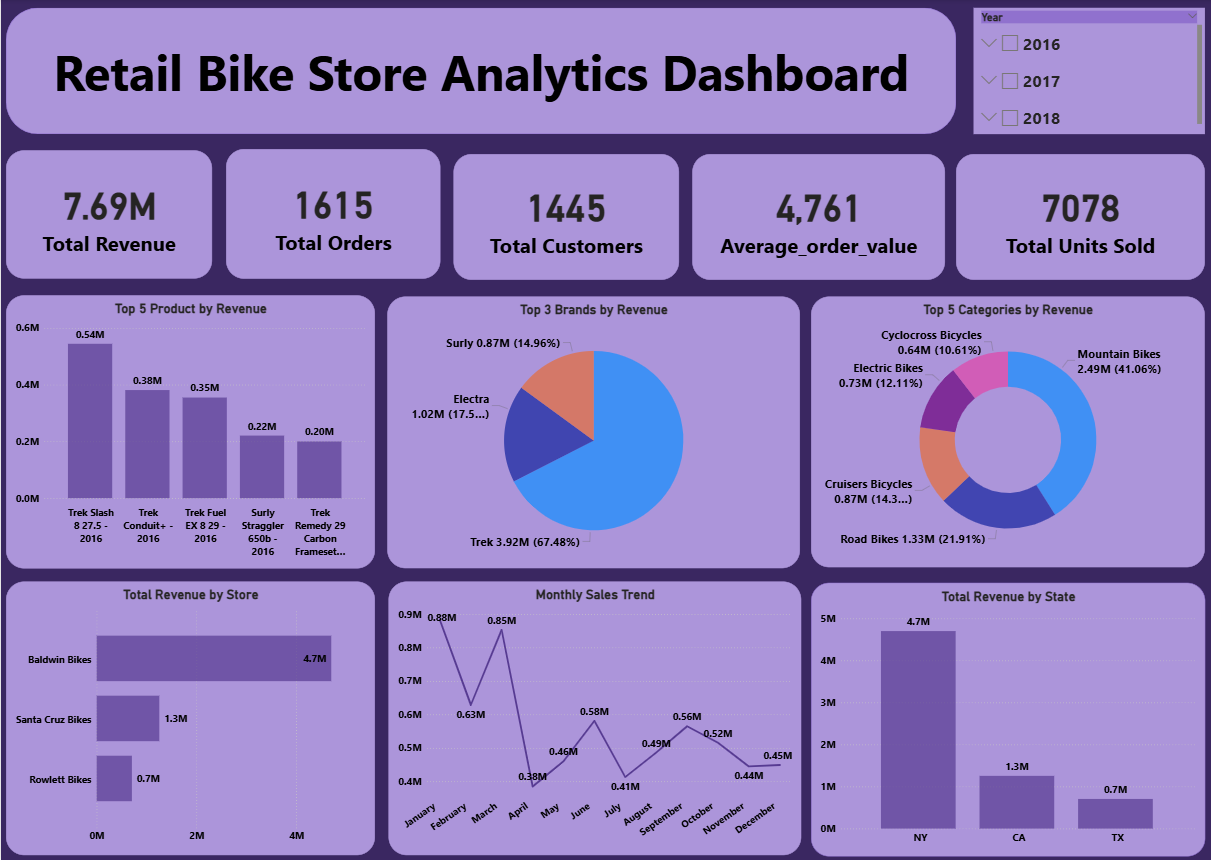

Layout of this report page (visuals, bound fields, positions):
{"tool":"powerbi","page":{"name":"Page 1","canvas":[1995,1425],"ordinal":0},"visuals":[{"type":"shape","box":[9.2,13.9,1563.5,207.9],"z":0},{"type":"card","fields":{"Values":["Sum(order_items.Revenue)"]},"box":[9,249.6,339.6,211.4],"z":1000},{"type":"card","fields":{"Values":["CountNonNull(orders.order_id)"]},"box":[371,247.4,353,213.6],"z":2000},{"type":"card","fields":{"Values":["Count(orders.customer_id)"]},"box":[744.3,254.1,371,206.9],"z":3000},{"type":"card","fields":{"Values":["order_items.Average_order_value"]},"box":[1137.8,254.1,416,206.9],"z":4000},{"type":"card","fields":{"Values":["Sum(order_items.quantity)"]},"box":[1571.8,254.1,409.3,206.9],"z":5000},{"type":"columnChart","title":"Top 5 Product by Revenue","fields":{"Category":["products.product_name"],"Y":["Sum(order_items.Revenue)"]},"box":[9,488,607.1,449.7],"z":6000},{"type":"pieChart","title":"Top 3 Brands by Revenue","fields":{"Category":["brands.brand_name"],"Y":["Sum(order_items.Revenue)"]},"box":[636.4,490.2,679.1,447.5],"z":7000},{"type":"donutChart","title":"Top 5 Categories by Revenue","fields":{"Category":["categories.category_name"],"Y":["Sum(order_items.Revenue)"]},"box":[1333.5,490.2,647.6,445.2],"z":8000},{"type":"clusteredBarChart","title":"Total Revenue by Store","fields":{"Category":["stores.store_name"],"Y":["Sum(order_items.Revenue)"]},"box":[9,959,607,450],"z":9000},{"type":"lineChart","title":"Monthly Sales Trend","fields":{"Category":["orders.order_date.Variation.Date Hierarchy.Month"],"Y":["Sum(order_items.Revenue)"]},"box":[637.4,958.4,679,450.3],"z":10000},{"type":"columnChart","title":"Total Revenue by State","fields":{"Category":["customers.state"],"Y":["Sum(order_items.Revenue)"]},"box":[1332.6,960.7,649,450.3],"z":11000},{"type":"slicer","fields":{"Values":["orders.order_date.Variation.Date Hierarchy.Year","orders.order_date.Variation.Date Hierarchy.Day"]},"box":[1600.5,13.9,381.1,207.9],"z":12000}]}

Visuals, with their boxes in screenshot pixels (x1, y1, x2, y2), scaled from the page's 1995x1425 canvas onto the 1211x860 screenshot:
shape: region(6, 8, 955, 134)
card - Sum(order_items.Revenue): region(5, 151, 212, 278)
card - CountNonNull(orders.order_id): region(225, 149, 439, 278)
card - Count(orders.customer_id): region(452, 153, 677, 278)
card - order_items.Average_order_value: region(691, 153, 943, 278)
card - Sum(order_items.quantity): region(954, 153, 1203, 278)
"Top 5 Product by Revenue" columnChart: region(5, 295, 374, 566)
"Top 3 Brands by Revenue" pieChart: region(386, 296, 799, 566)
"Top 5 Categories by Revenue" donutChart: region(809, 296, 1203, 565)
"Total Revenue by Store" clusteredBarChart: region(5, 579, 374, 850)
"Monthly Sales Trend" lineChart: region(387, 578, 799, 850)
"Total Revenue by State" columnChart: region(809, 580, 1203, 852)
slicer - orders.order_date.Variation.Date Hierarchy.Year x orders.order_date.Variation.Date Hierarchy.Day: region(972, 8, 1203, 134)
